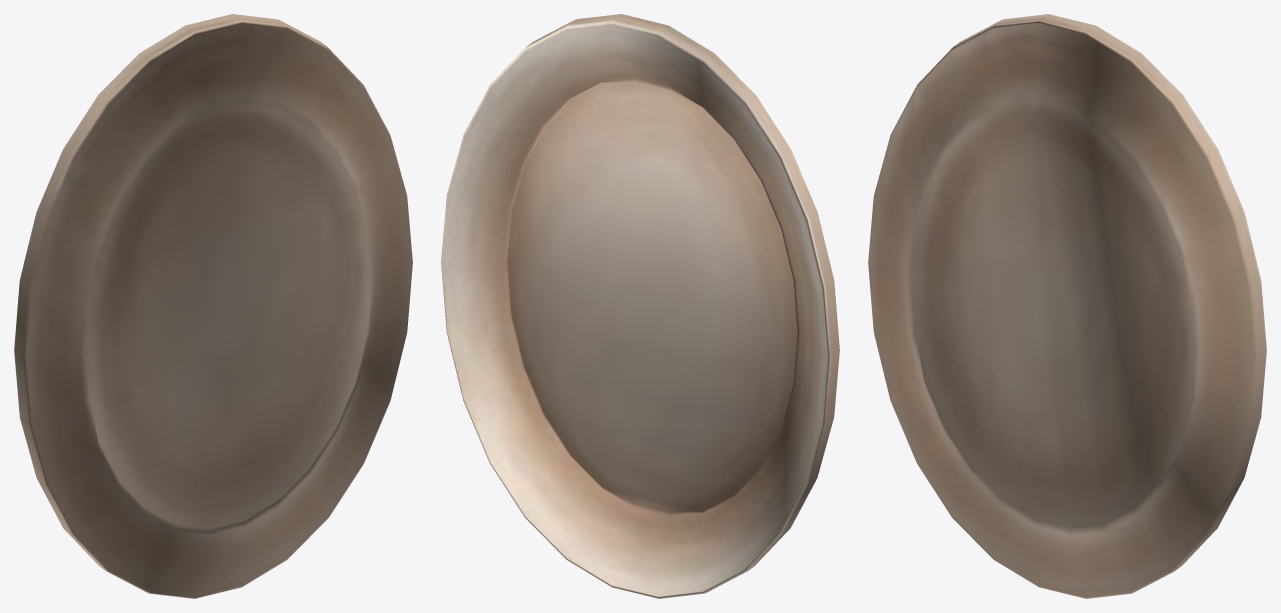
The model's file is Plato 02 Fin.FBX.
3 renders of one model, left to right at view 1: azimuth 30°, elevation 25°; view 2: azimuth 150°, elevation 25°; view 3: azimuth 330°, elevation 25°, orthographic.
Parts seen in each view (by area): view 1: Plato02; view 2: Plato02; view 3: Plato02.
Part boxes in pixels (left/top/right/bottom): Plato02: left=14, top=14, right=412, bottom=598; Plato02: left=441, top=14, right=839, bottom=598; Plato02: left=868, top=14, right=1266, bottom=598.
Bounding box in the file's own units: 40 × 55.63 × 3.49.
Materials: 1 (1 with a texture image).
